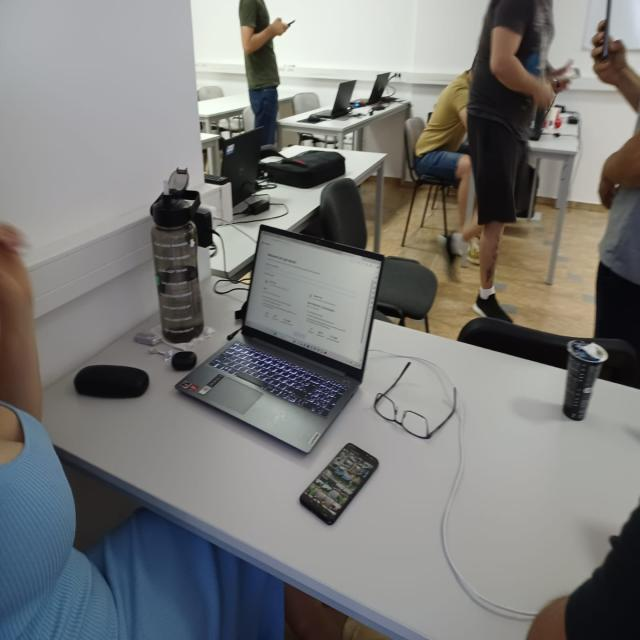Laptops_bbox: (169, 175, 406, 479)
